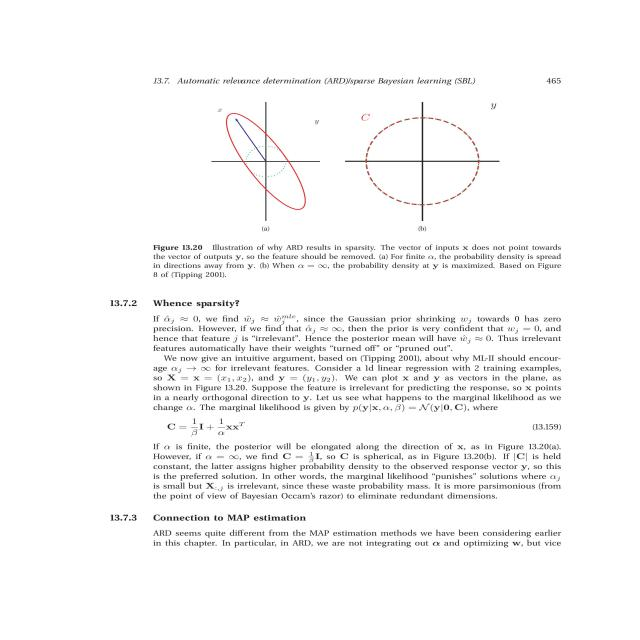diagram: (97, 100, 616, 285)
